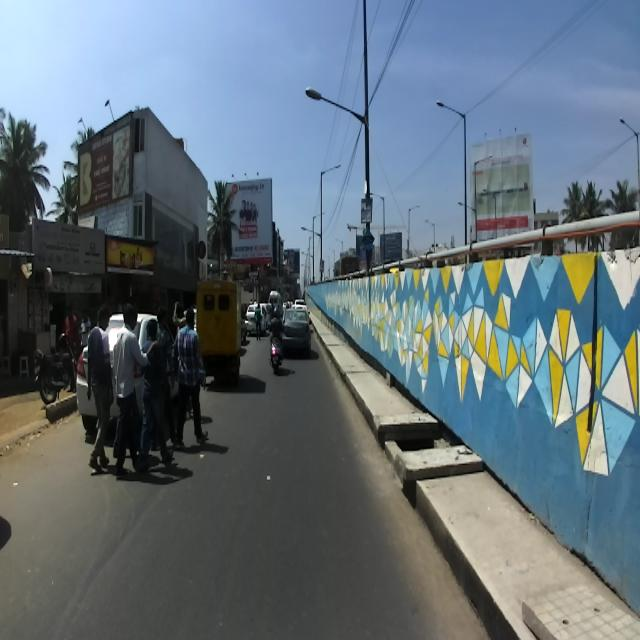person ahead at: (111, 297, 148, 472)
